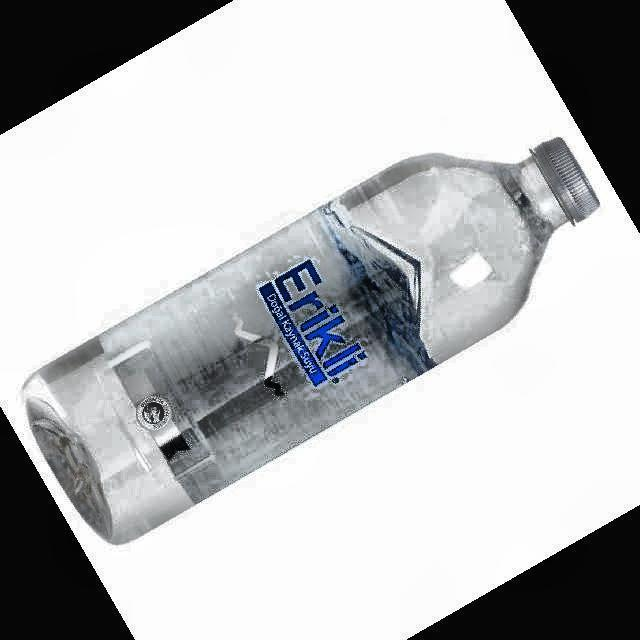plastic: (24, 138, 599, 543)
